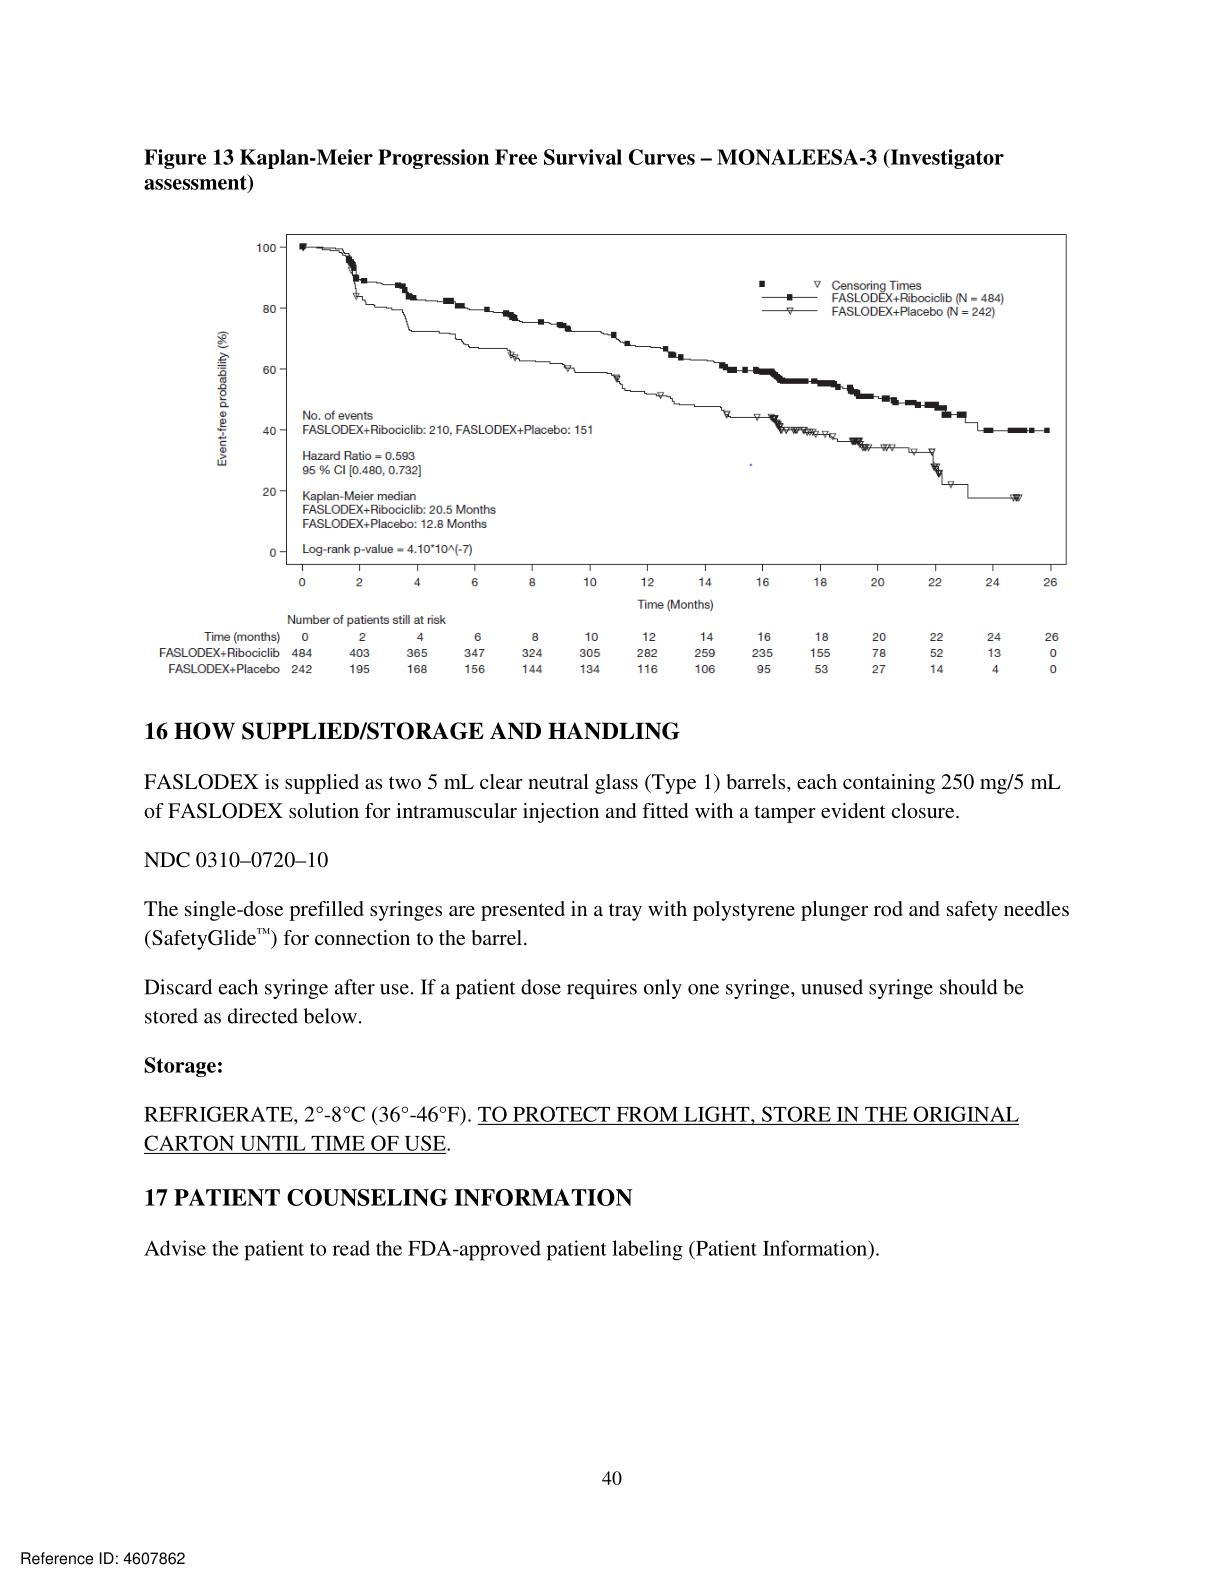nolines: (154, 611, 1065, 675)
